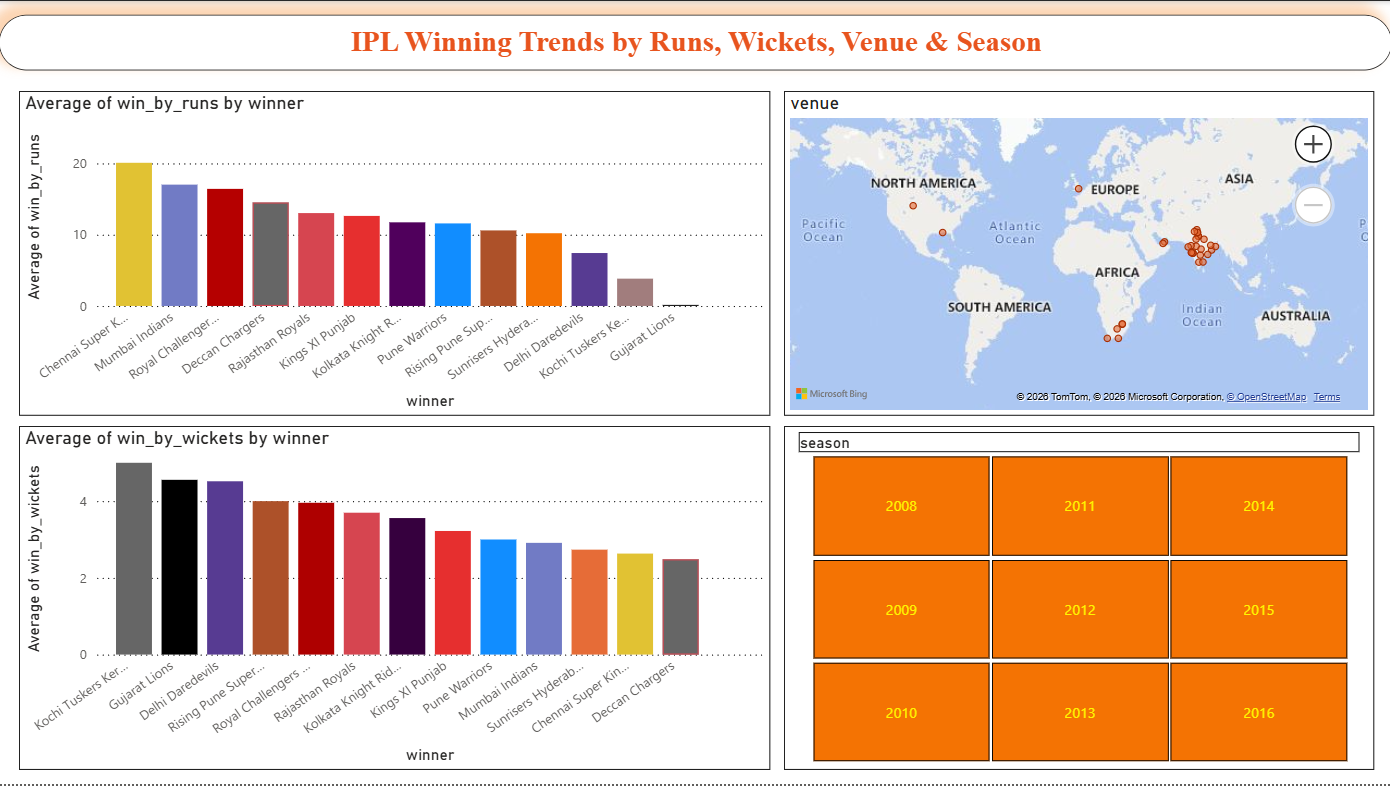

What the dashboard file says about the page in this screenshot:
{"tool":"powerbi","page":{"name":"Page 3","canvas":[1280,720],"ordinal":2},"visuals":[{"type":"columnChart","fields":{"Category":["ipl_dataset (1).winner"],"Y":["Avg(ipl_dataset (1).win_by_runs)"]},"box":[18.8,82.5,690,298.8],"z":0},{"type":"columnChart","fields":{"Category":["ipl_dataset (1).winner"],"Y":["Avg(ipl_dataset (1).win_by_wickets)"]},"box":[18.8,390,690,316.2],"z":1000},{"type":"slicer","fields":{"Values":["ipl_dataset (1).season"]},"box":[721.2,390,542.5,316.2],"z":2000},{"type":"map","fields":{"Category":["ipl_dataset (1).venue"]},"box":[721.2,82.5,542.5,298.8],"z":3000},{"type":"textbox","title":"IPL Winning Trends by Runs, Wickets, Venue & Season","box":[0,12.5,1280,51.2],"z":4000}]}

Visuals, with their boxes in screenshot pixels (x1, y1, x2, y2), scaled from the page's 1280x720 canvas onto the 1390x787 screenshot:
columnChart - ipl_dataset (1).winner x Avg(ipl_dataset (1).win_by_runs): pyautogui.locateOnScreen(20, 90, 770, 417)
columnChart - ipl_dataset (1).winner x Avg(ipl_dataset (1).win_by_wickets): pyautogui.locateOnScreen(20, 426, 770, 772)
slicer - ipl_dataset (1).season: pyautogui.locateOnScreen(783, 426, 1372, 772)
map - ipl_dataset (1).venue: pyautogui.locateOnScreen(783, 90, 1372, 417)
"IPL Winning Trends by Runs, Wickets, Venue & Season" textbox: pyautogui.locateOnScreen(0, 14, 1389, 70)
